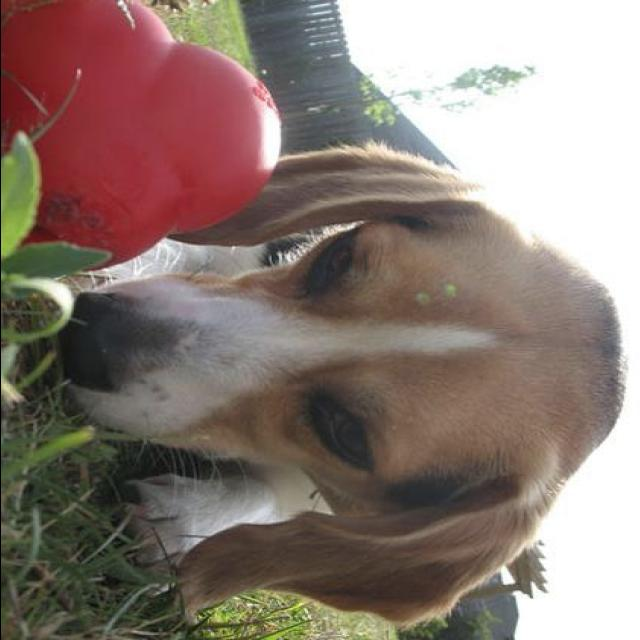beagle: (66, 140, 640, 626)
